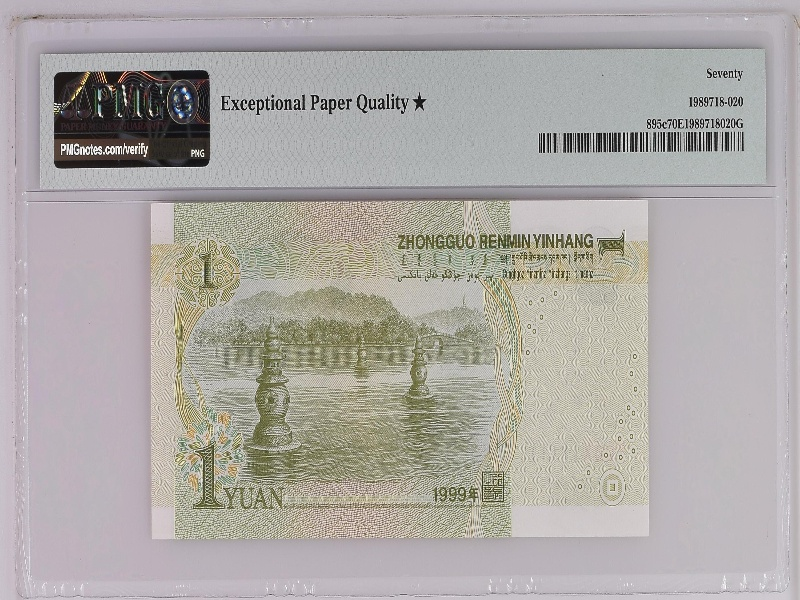papernote: (149, 198, 652, 539)
